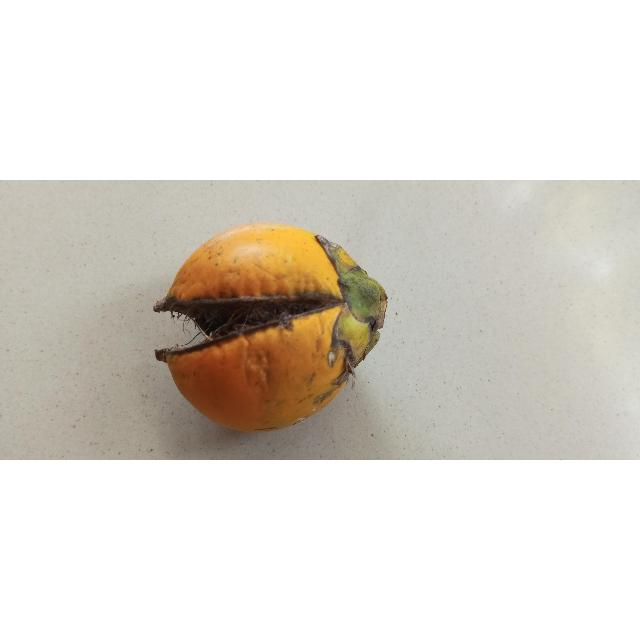damaged: (154, 223, 389, 434)
